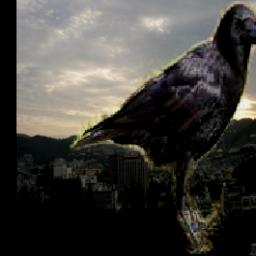Crow: (68, 2, 256, 255)
